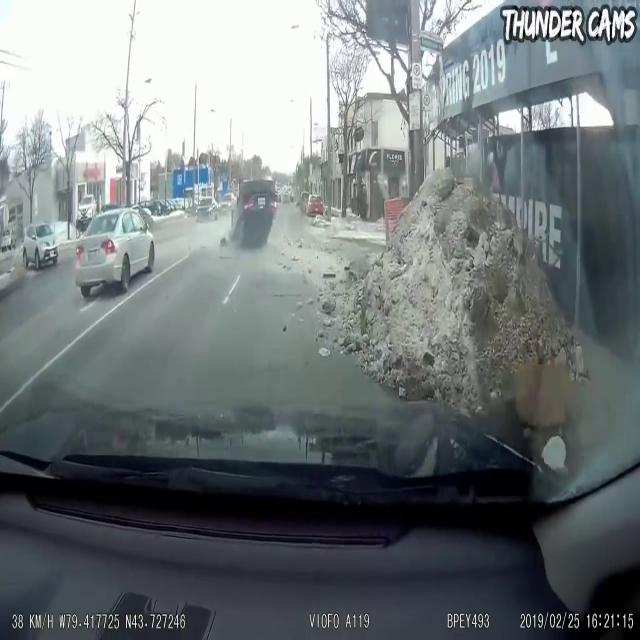accident: (194, 162, 287, 260)
